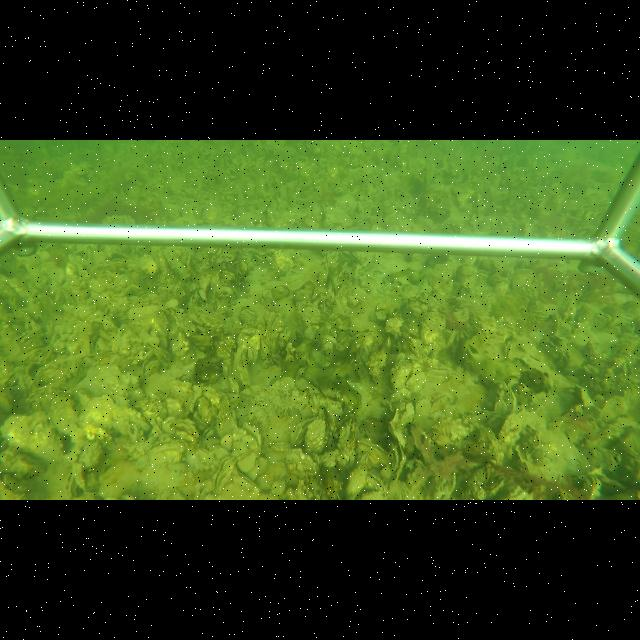Oyster-Closed: (0, 411, 65, 460), (136, 438, 189, 469), (211, 455, 234, 495), (391, 359, 412, 391), (244, 422, 263, 451), (18, 329, 43, 349), (318, 257, 330, 288)
Oyster-Open: (390, 440, 406, 480), (141, 357, 162, 378), (502, 336, 515, 360)
